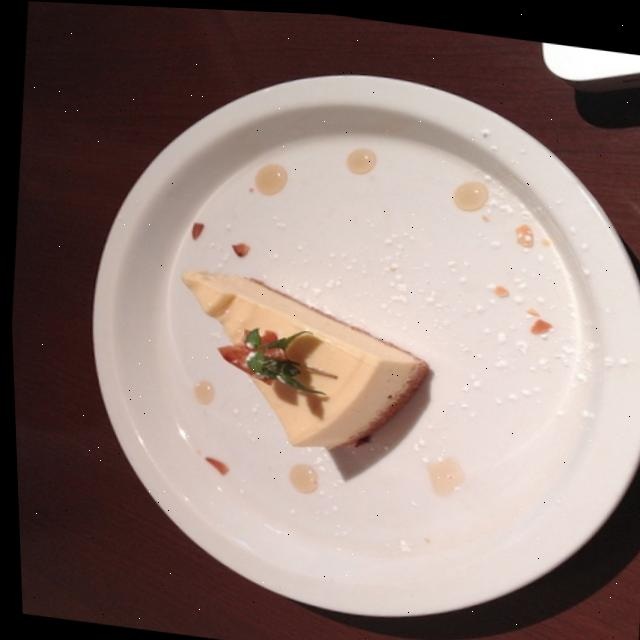蛋糕甜品: (92, 164, 510, 557)
